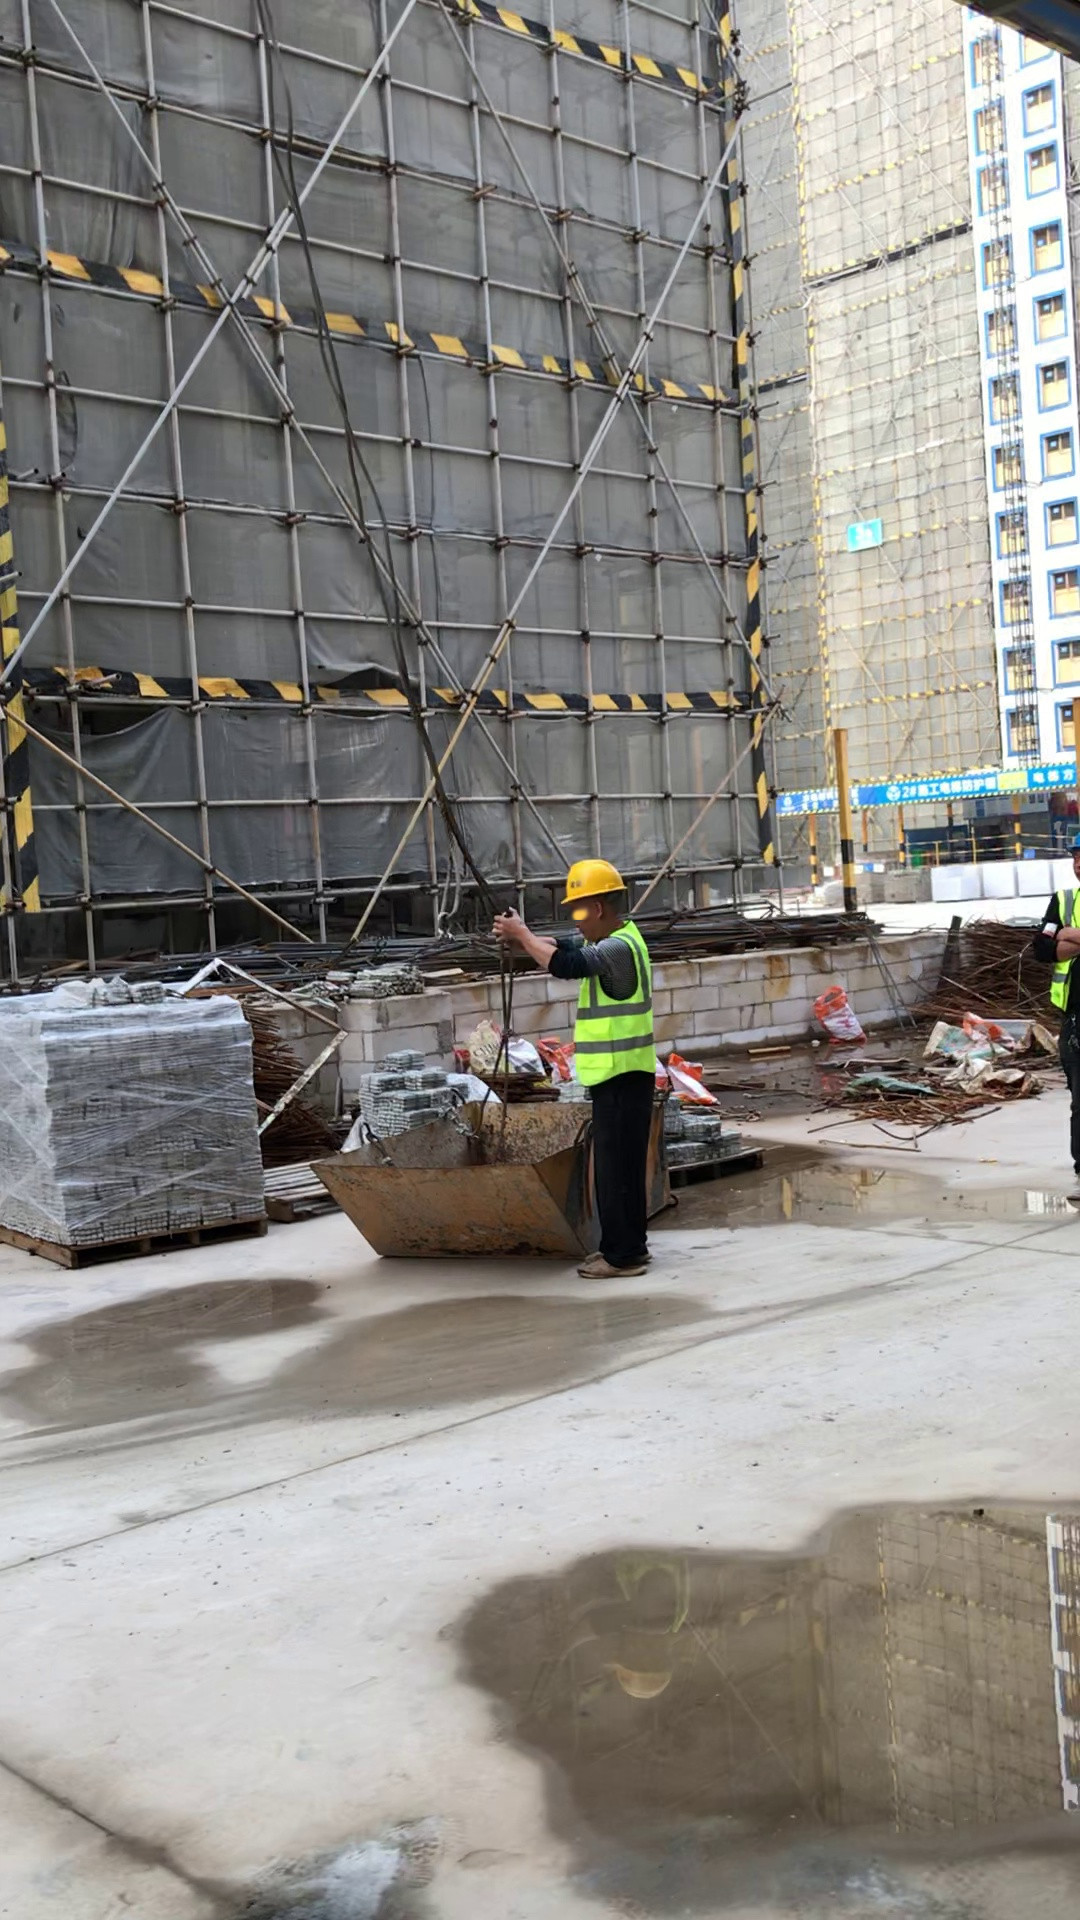helmet: (556, 860, 636, 901)
hopper: (299, 1099, 689, 1259)
person: (496, 853, 702, 1300), (1006, 825, 1080, 1222)
vest: (565, 923, 663, 1076), (1037, 898, 1080, 1025)
